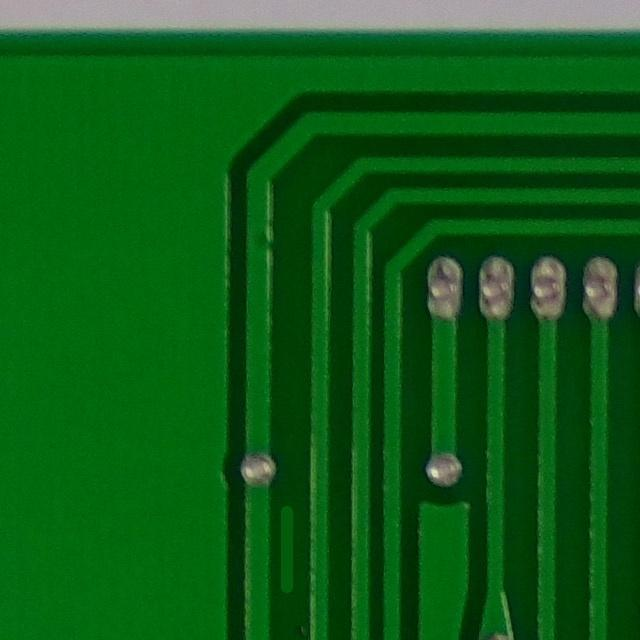spurious_copper: (257, 495, 320, 599)
